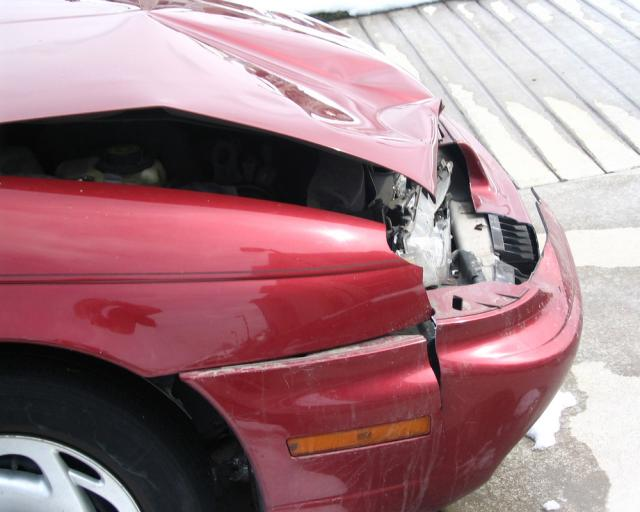crack: (422, 325, 443, 417)
dent: (149, 14, 433, 144)
lamp broken: (386, 149, 494, 287)
